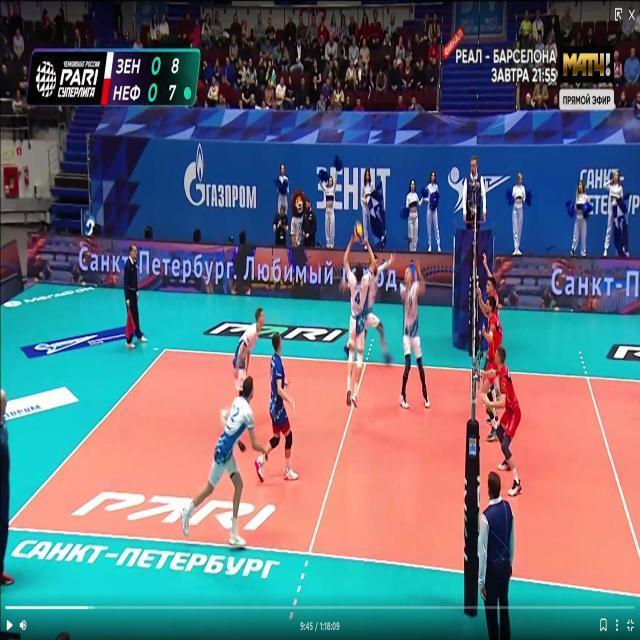volleyball: (353, 223, 362, 240)
